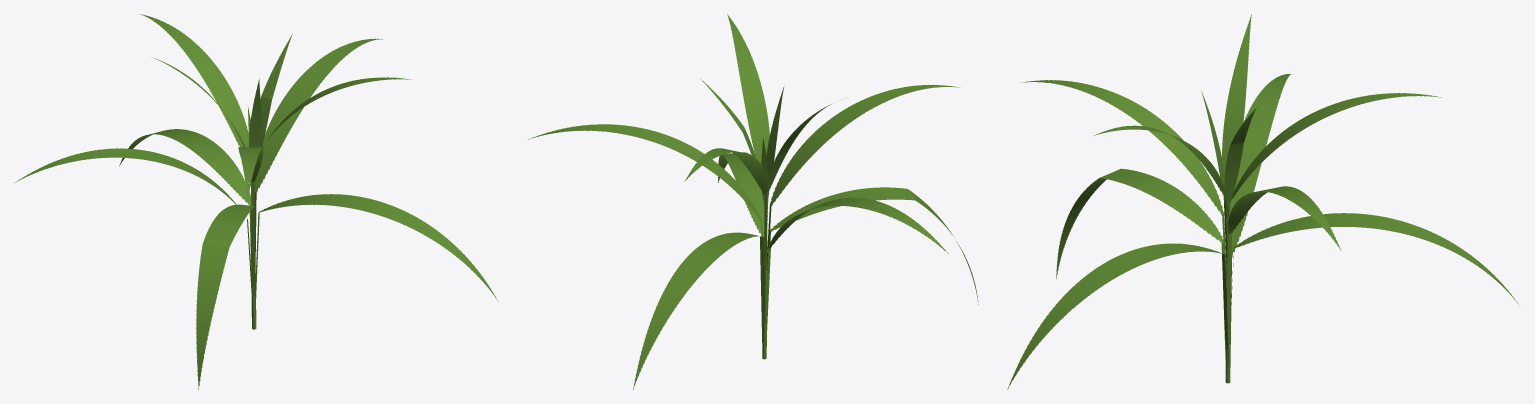
The model's file is maize_002_day_080.dae.
3 views of the same model, side by side, from view 1: azimuth 30°, elevation 25°; view 2: azimuth 150°, elevation 25°; view 3: azimuth 270°, elevation 25° (orthographic). The views are drawn at different scales.
Parts seen in each view (by area): view 1: node; view 2: node; view 3: node.
Part boxes in pixels (<box>): node: <box>14,14,498,389</box>; node: <box>528,14,978,389</box>; node: <box>1007,14,1520,389</box>.
Bounding box in the file's own units: 1.35 × 0.9416 × 1.38.
1 material, 1 textured.
